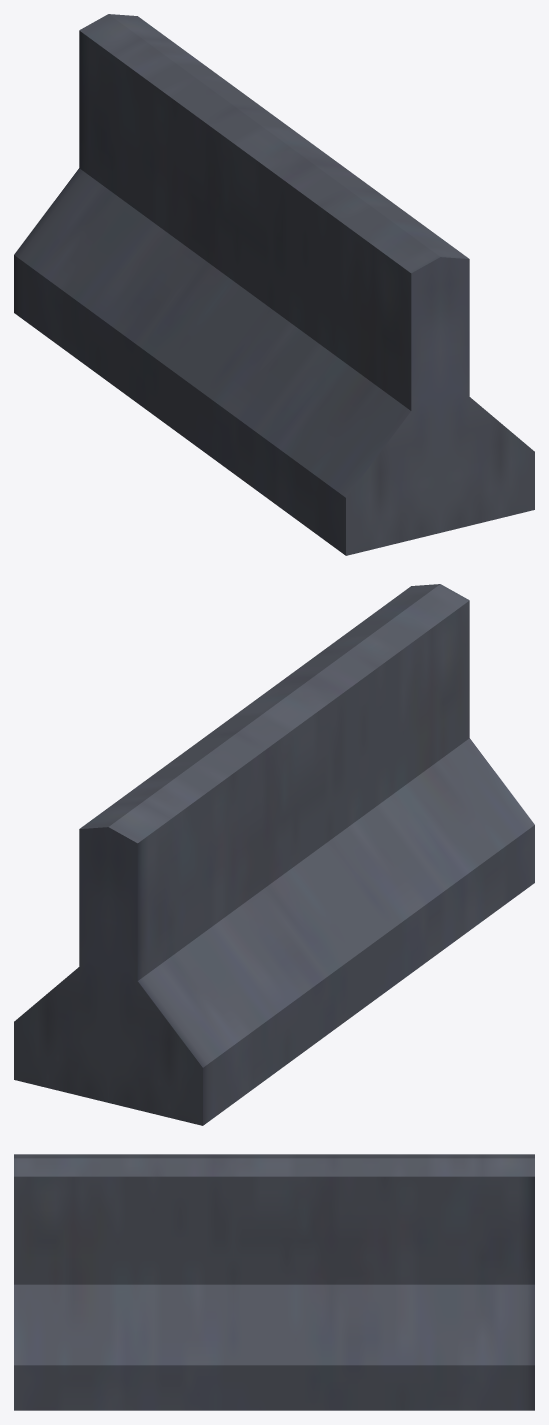
Rendered from wangan_jersey.glb.
3 views of the same model, one above another, from view 1: azimuth 30°, elevation 25°; view 2: azimuth 150°, elevation 25°; view 3: azimuth 270°, elevation 25° (orthographic). The views are drawn at different scales.
Parts seen in each view (by area): view 1: Jersey_barrier; view 2: Jersey_barrier; view 3: Jersey_barrier.
Part boxes in pixels (x1,y1,x2,y2): Jersey_barrier: (14,14,534,555); Jersey_barrier: (14,584,534,1125); Jersey_barrier: (14,1154,534,1410).
Size of the model in its own units: 0.8145 by 1.14 by 2.48.
Materials: 1 (1 with a texture image).
